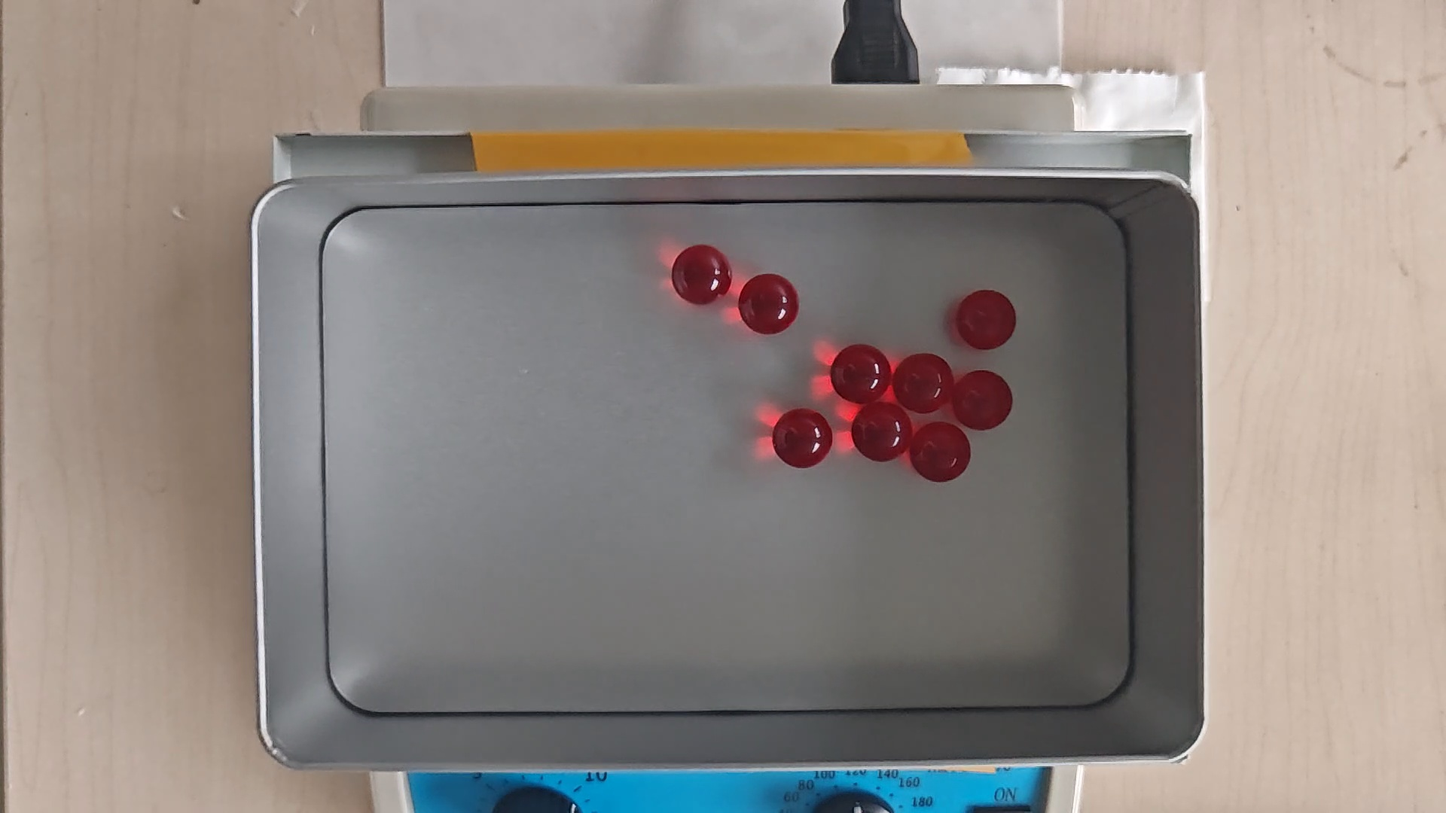ball: (739, 272, 799, 336), (671, 243, 731, 306), (910, 422, 971, 483), (956, 289, 1016, 351), (773, 408, 833, 470), (953, 369, 1013, 431), (894, 352, 953, 414), (852, 403, 912, 463), (831, 343, 889, 402)
container: (323, 201, 1130, 712)
